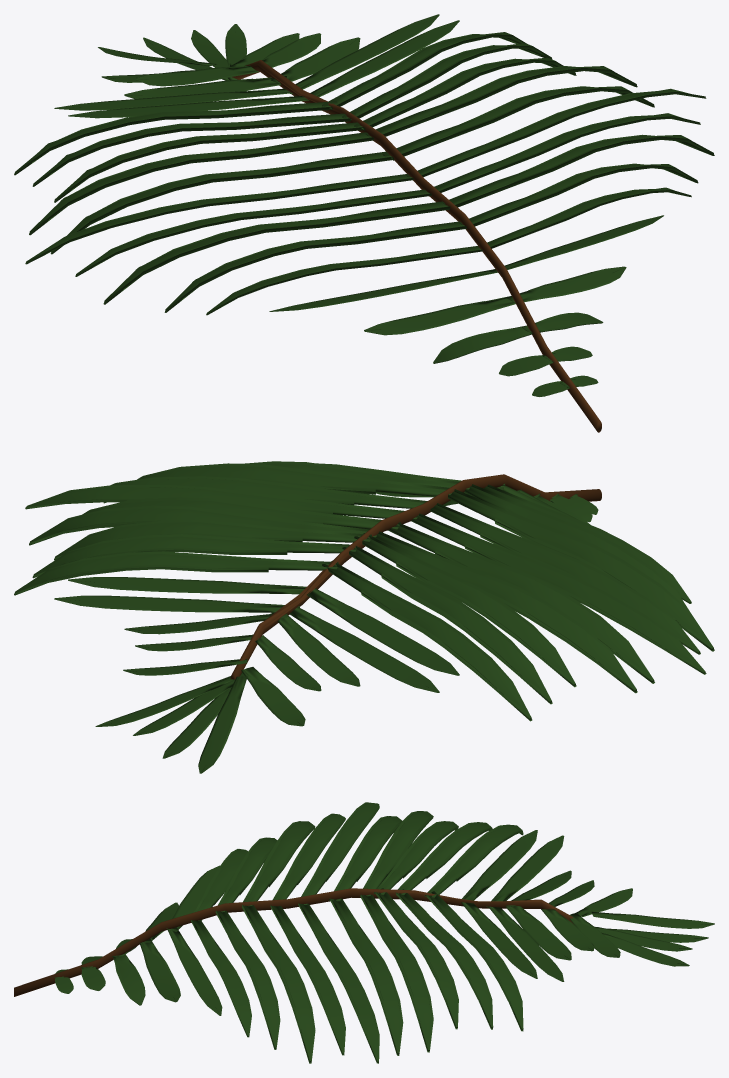
Rendered from Branch.fbx.
3 renders of one model, top to bottom at view 1: azimuth 30°, elevation 25°; view 2: azimuth 150°, elevation 25°; view 3: azimuth 270°, elevation 25°, orthographic. The views are drawn at different scales.
Parts seen in each view (by area): view 1: Plane.688; view 2: Plane.688; view 3: Plane.688.
Boxes of the visible parts, x1,y1,x2,y2 form: Plane.688: (14,14,714,432); Plane.688: (14,461,714,773); Plane.688: (14,802,714,1063).
Size of the model in its own units: 1.2 by 1.37 by 0.2348.
